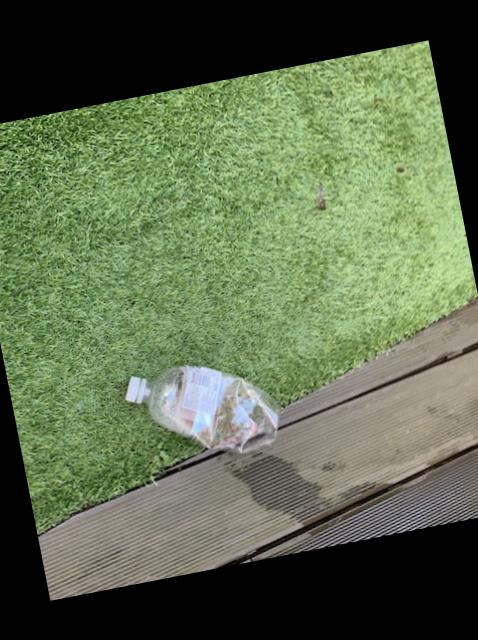plastic: (126, 365, 280, 451)
